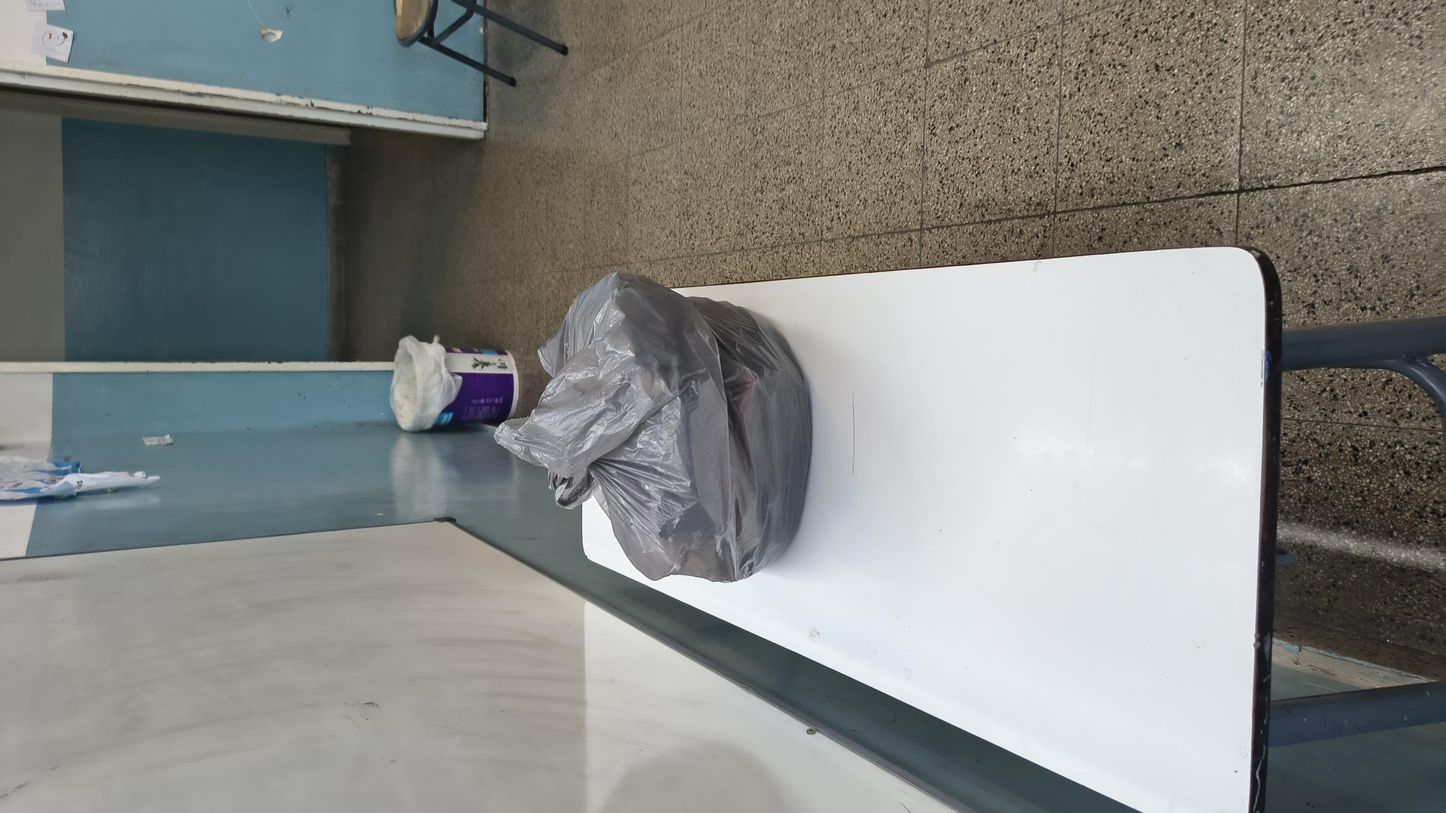Garbage: (339, 258, 1010, 482)
